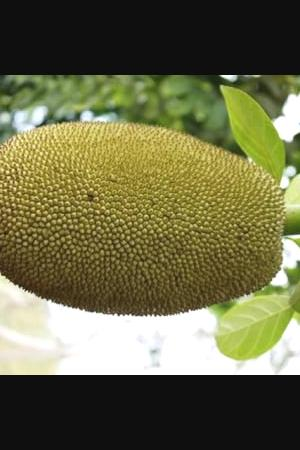mit: (0, 122, 284, 317)
